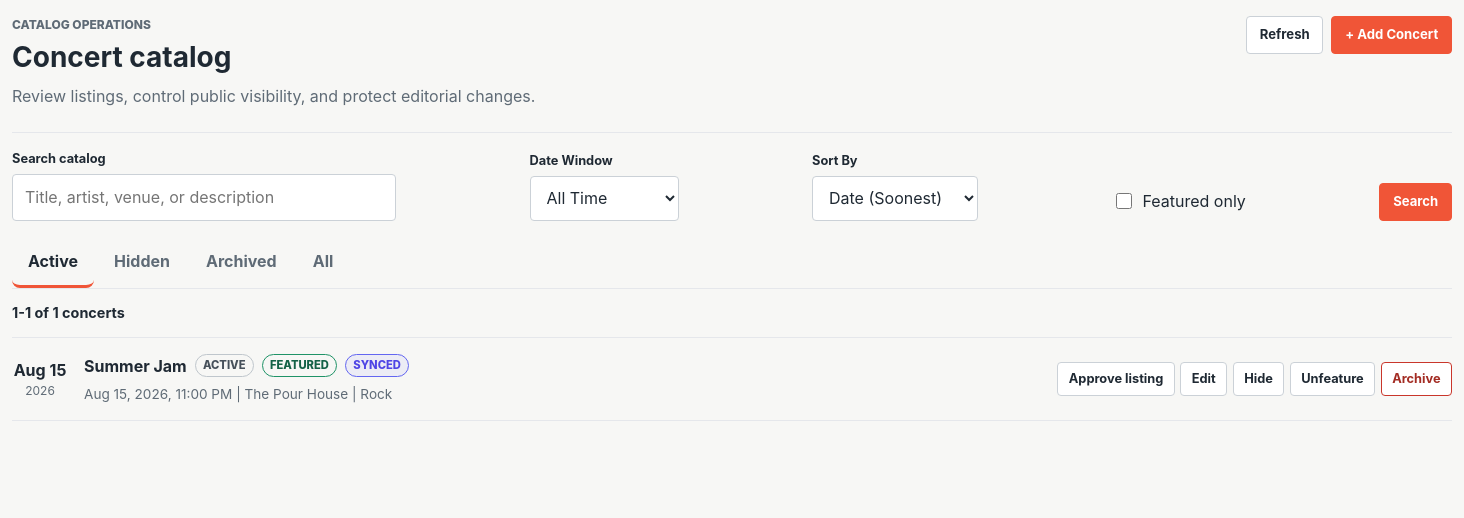
AdminConcertsPage › approves a listing for public discovery
This screenshot has width=1464, height=518.
Click the button "Approve listing" at [1116, 379], box [1057,362,1175,396]
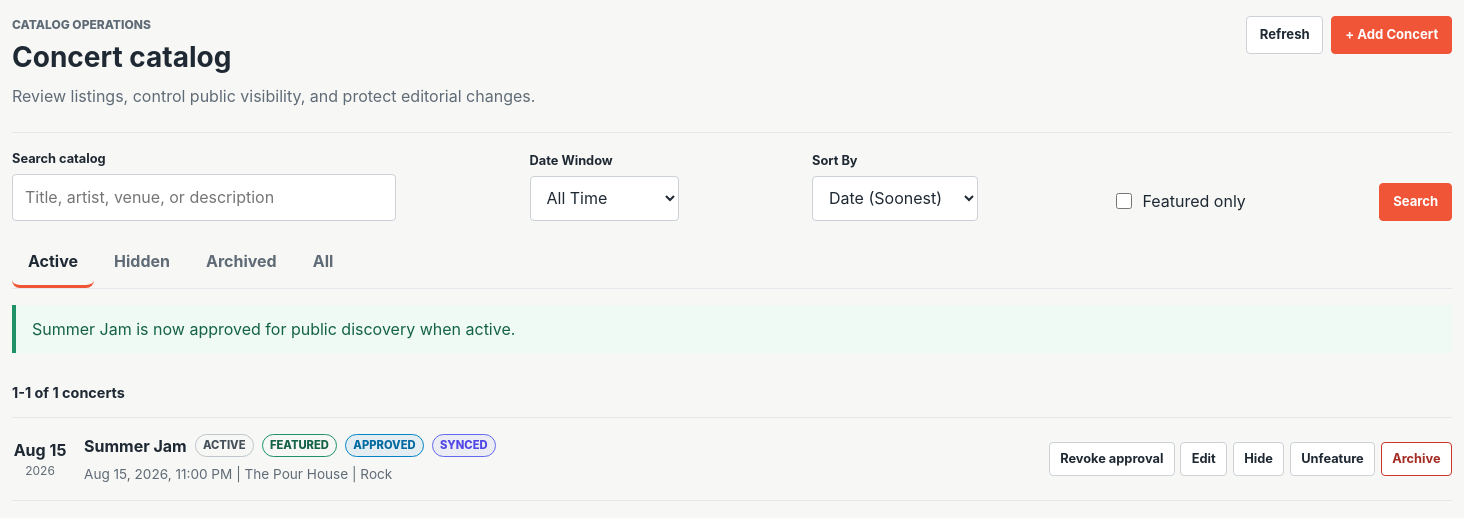
Expected: the text "approved for public discovery when active" is shown, [32,318,515,338]
Expected: the text "Revoke approval" is shown, [1049,442,1175,476]
